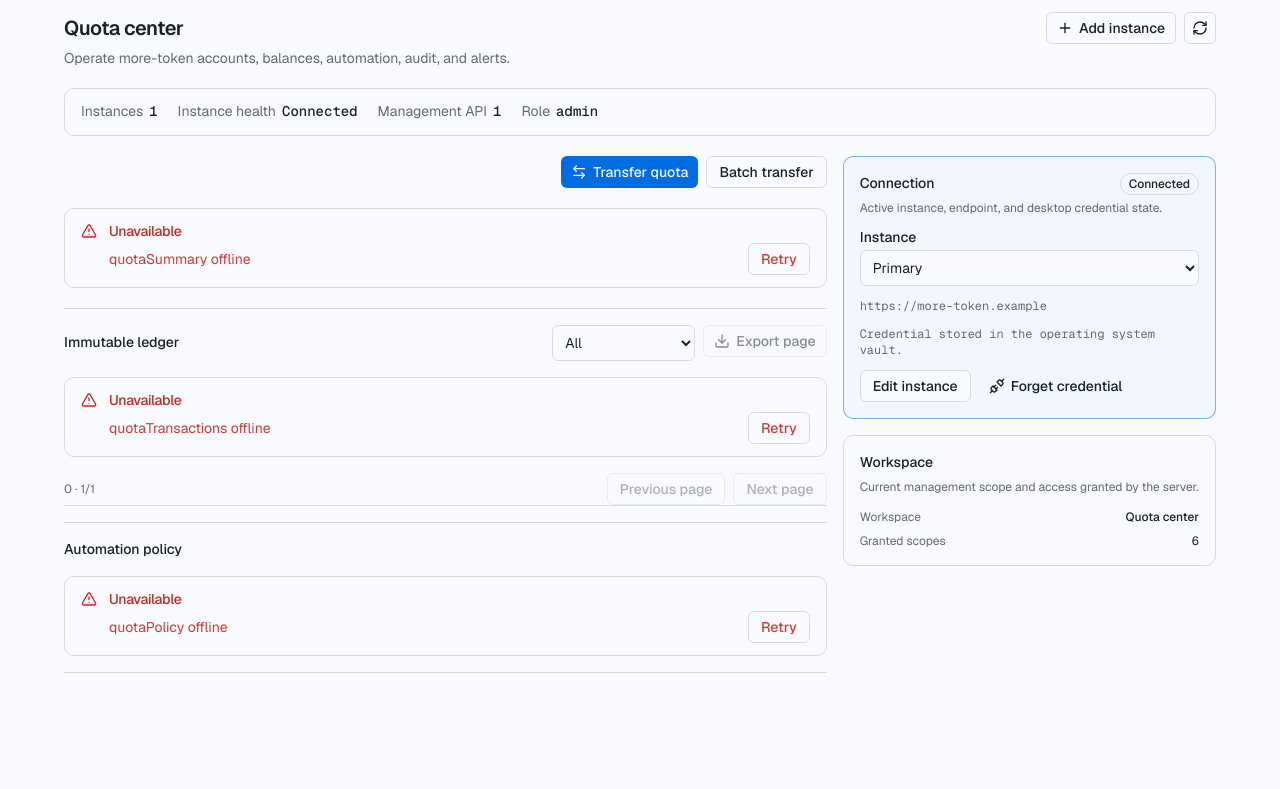
Test: quota center reads › retries the summary, the ledger and the policy each from its own error
Check: the heading "Immutable ledger" is shown, box [64,332,179,354]
Click the button "Retry" in the row of "quotaSummary offline". click: (779, 259)
box: [748,243,810,275]
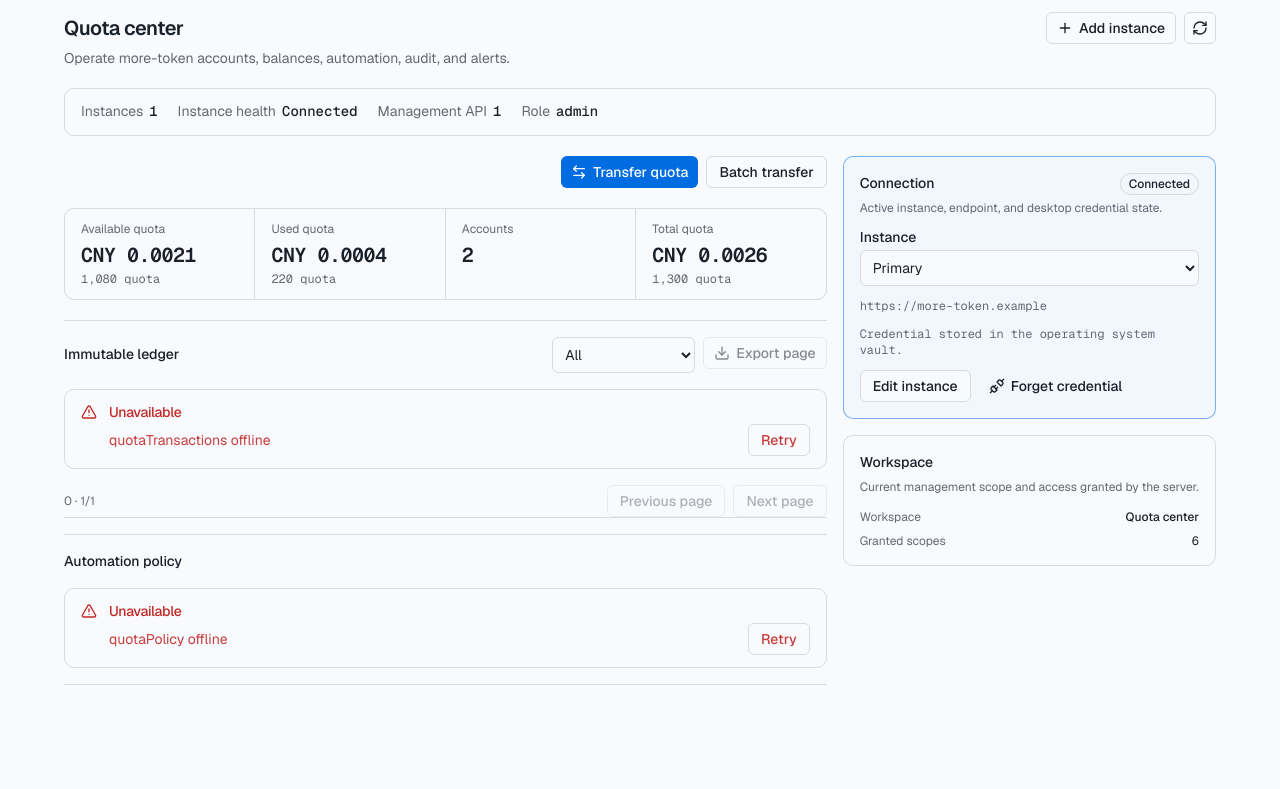
Click the button "Retry" in the row of "quotaTransactions offline". click: (779, 440)
box: [748,424,810,456]
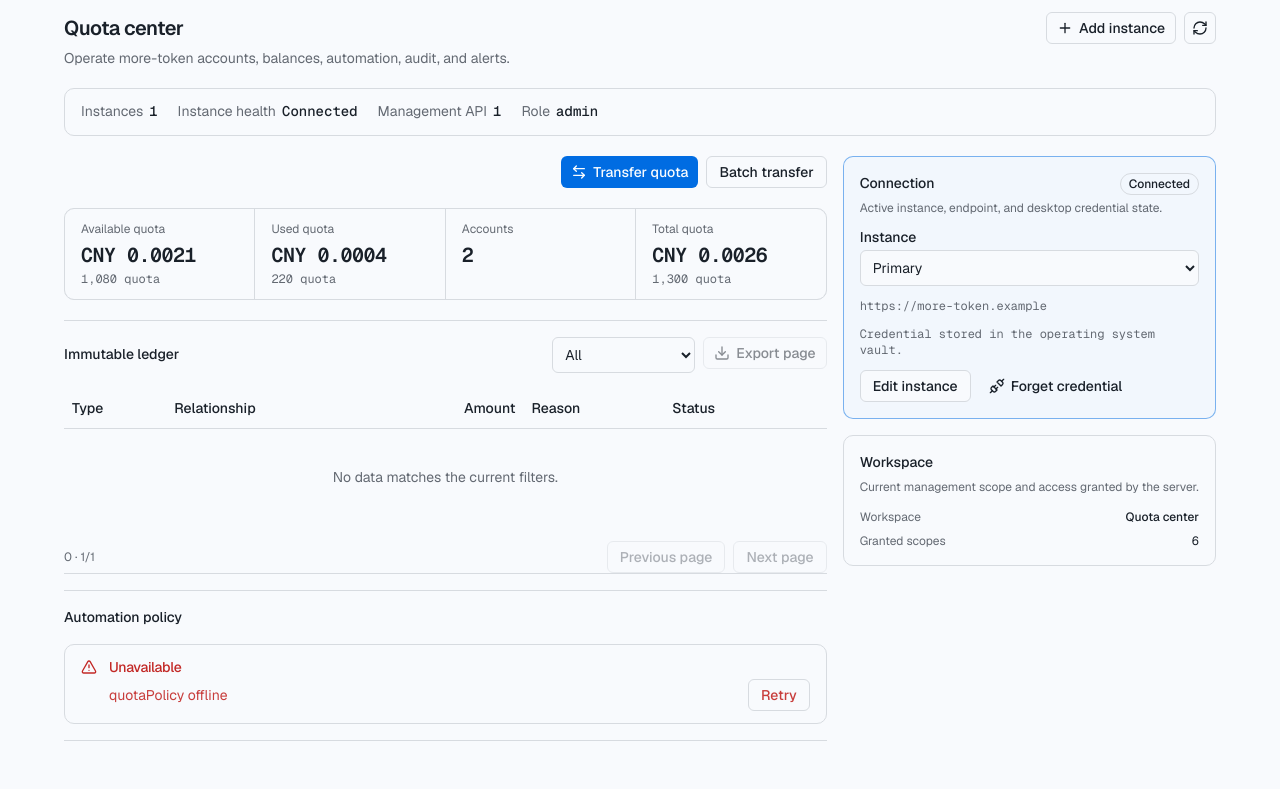
Click the button "Retry". click: (779, 695)
box: [748,679,810,711]
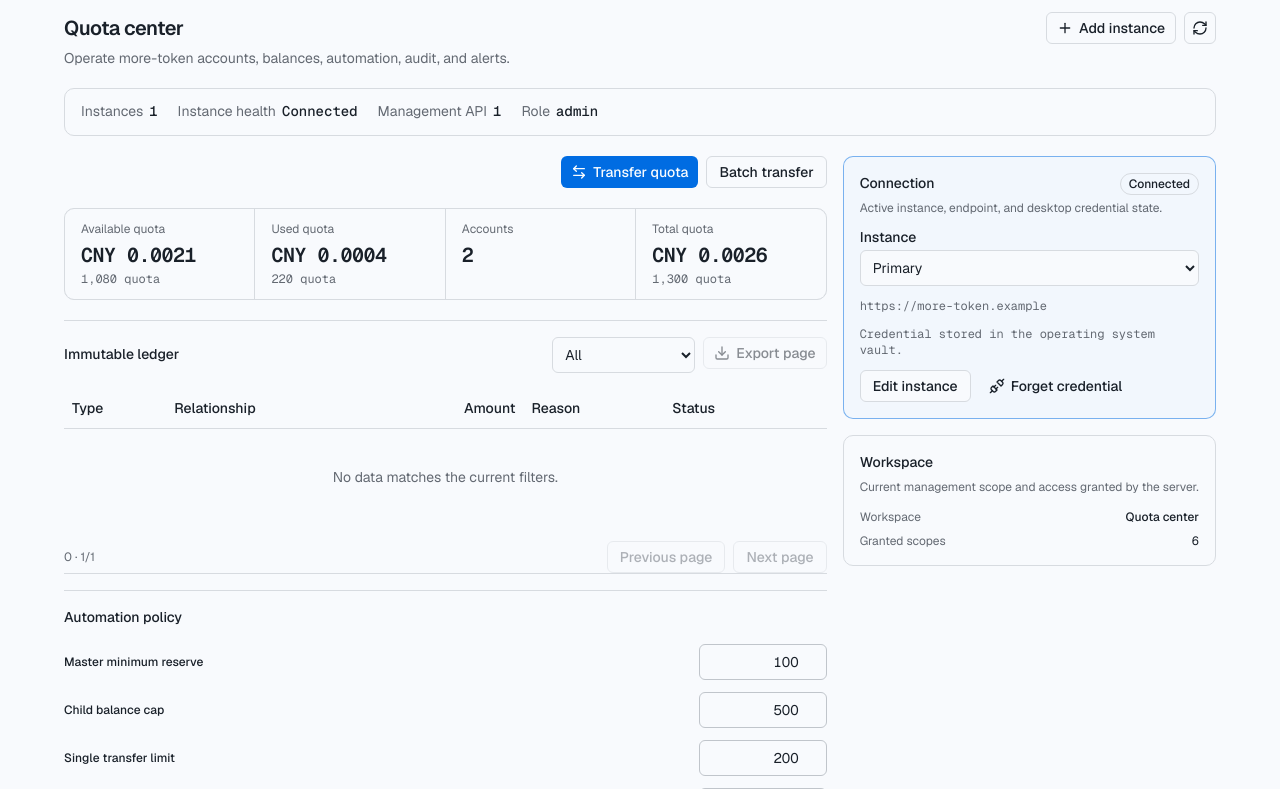
Check: the text "Total quota" is shown, box [652,221,713,237]
Check: the number field labelled "Master minimum reserve" holds "100", box [699,644,827,680]
